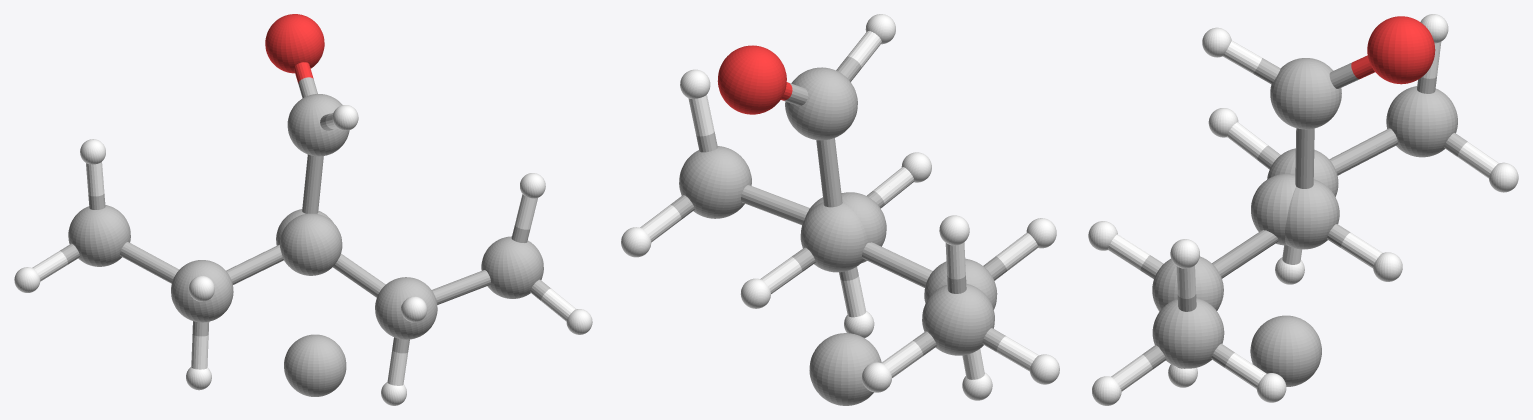
The model's file is 2 – etil Butanal.fbx.
3 views of the same model, side by side, from view 1: azimuth 30°, elevation 25°; view 2: azimuth 150°, elevation 25°; view 3: azimuth 270°, elevation 25° (orthographic). The views are drawn at different scales.
Parts seen in each view (by area): view 1: Carbon_ball, Carbon_ball.010, Carbon_mesh|Carbon_ball.010|Dupli|3, Carbon_mesh|Carbon_ball.010|Dupli|5, Oxygen_mesh|Oxygen_ball.010|Dupli|, Carbon_mesh|Carbon_ball.010|Dupli|2, Carbon_mesh|Carbon_ball.010|Dupli|4, Carbon_mesh|Carbon_ball.010|Dupli|1, Hydrogen_mesh|Hydrogen_ball.010|Dupli|3, Hydrogen_mesh|Hydrogen_ball.010|Dupli|, Hydrogen_mesh|Hydrogen_ball.010|Dupli|7, Hydrogen_mesh|Hydrogen_ball.010|Dupli|10 (+3 smaller); view 2: Carbon_mesh|Carbon_ball.010|Dupli|3, Carbon_mesh|Carbon_ball.010|Dupli|5, Carbon_mesh|Carbon_ball.010|Dupli|1, Oxygen_mesh|Oxygen_ball.010|Dupli|, Carbon_ball, Carbon_mesh|Carbon_ball.010|Dupli|, Carbon_mesh|Carbon_ball.010|Dupli|4, Carbon_ball.010, Hydrogen_mesh|Hydrogen_ball.010|Dupli|9, Hydrogen_mesh|Hydrogen_ball.010|Dupli|4, Hydrogen_mesh|Hydrogen_ball.010|Dupli|10, Hydrogen_mesh|Hydrogen_ball.010|Dupli|1 (+7 smaller); view 3: Carbon_mesh|Carbon_ball.010|Dupli|1, Carbon_mesh|Carbon_ball.010|Dupli|5, Carbon_ball, Carbon_mesh|Carbon_ball.010|Dupli|3, Oxygen_mesh|Oxygen_ball.010|Dupli|, Carbon_mesh|Carbon_ball.010|Dupli|, Carbon_ball.010, Carbon_mesh|Carbon_ball.010|Dupli|2, Carbon_mesh|Carbon_ball.010|Dupli|4, Hydrogen_mesh|Hydrogen_ball.010|Dupli|6, Hydrogen_mesh|Hydrogen_ball.010|Dupli|11, Hydrogen_mesh|Hydrogen_ball.010|Dupli|1 (+8 smaller).
Part boxes in pixels (x1,y1,x2,y2): Carbon_ball: (284,334,346,396); Carbon_ball.010: (280,213,342,275); Carbon_mesh|Carbon_ball.010|Dupli|3: (481,236,543,298); Carbon_mesh|Carbon_ball.010|Dupli|5: (68,205,130,266); Oxygen_mesh|Oxygen_ball.010|Dupli|: (265,14,324,73); Carbon_mesh|Carbon_ball.010|Dupli|2: (375,277,437,339); Carbon_mesh|Carbon_ball.010|Dupli|4: (171,260,233,322); Carbon_mesh|Carbon_ball.010|Dupli|1: (287,94,349,156); Hydrogen_mesh|Hydrogen_ball.010|Dupli|3: (401,296,427,322); Hydrogen_mesh|Hydrogen_ball.010|Dupli|: (332,105,358,130); Hydrogen_mesh|Hydrogen_ball.010|Dupli|7: (189,276,214,301); Hydrogen_mesh|Hydrogen_ball.010|Dupli|10: (14,267,40,292); Carbon_mesh|Carbon_ball.010|Dupli|3: (679,146,751,218); Carbon_mesh|Carbon_ball.010|Dupli|5: (922,283,994,355); Carbon_mesh|Carbon_ball.010|Dupli|1: (785,67,857,140); Oxygen_mesh|Oxygen_ball.010|Dupli|: (717,45,786,114); Carbon_ball: (809,333,881,405); Carbon_mesh|Carbon_ball.010|Dupli|: (800,202,867,272); Carbon_mesh|Carbon_ball.010|Dupli|4: (924,258,997,309); Carbon_ball.010: (841,192,886,263); Hydrogen_mesh|Hydrogen_ball.010|Dupli|9: (939,215,969,245); Hydrogen_mesh|Hydrogen_ball.010|Dupli|4: (621,227,651,257); Hydrogen_mesh|Hydrogen_ball.010|Dupli|10: (1029,354,1059,384); Hydrogen_mesh|Hydrogen_ball.010|Dupli|1: (740,278,770,308); Carbon_mesh|Carbon_ball.010|Dupli|1: (1270,58,1341,129); Carbon_mesh|Carbon_ball.010|Dupli|5: (1386,86,1457,157); Carbon_ball: (1250,315,1321,386); Carbon_mesh|Carbon_ball.010|Dupli|3: (1152,298,1224,368); Oxygen_mesh|Oxygen_ball.010|Dupli|: (1367,16,1435,84); Carbon_mesh|Carbon_ball.010|Dupli|: (1285,179,1339,249); Carbon_ball.010: (1251,173,1295,245); Carbon_mesh|Carbon_ball.010|Dupli|2: (1152,256,1223,311); Carbon_mesh|Carbon_ball.010|Dupli|4: (1267,148,1338,196); Hydrogen_mesh|Hydrogen_ball.010|Dupli|6: (1170,239,1199,268); Hydrogen_mesh|Hydrogen_ball.010|Dupli|11: (1489,162,1518,192); Hydrogen_mesh|Hydrogen_ball.010|Dupli|1: (1373,252,1402,281).
Size of the model in its own units: 622 by 452 by 462.
